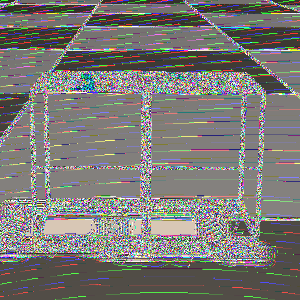Rack: (28, 69, 265, 253)
